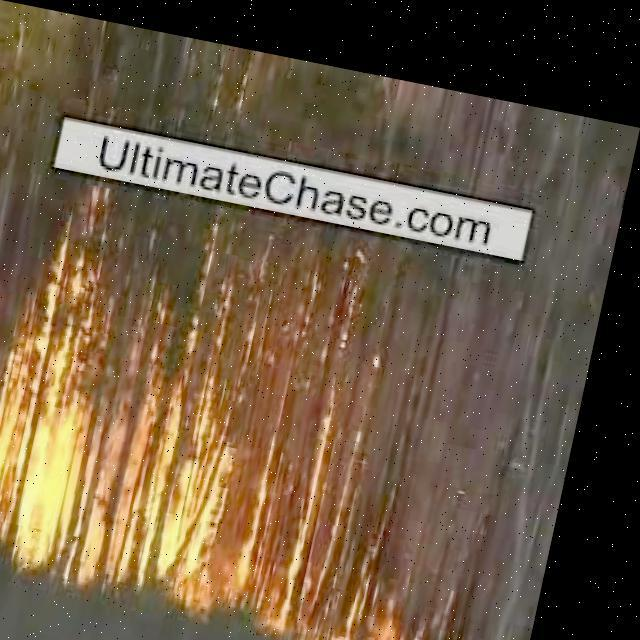Fire: (0, 41, 610, 639)
